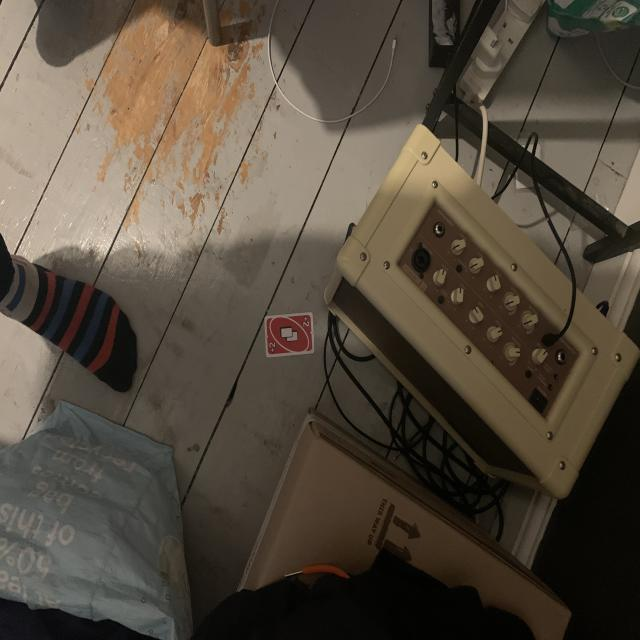lred-20: (300, 316, 312, 330)
